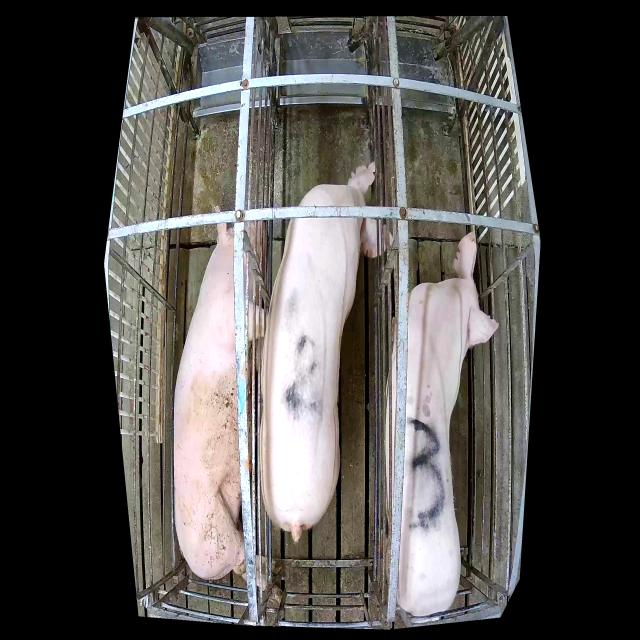pig: (260, 161, 393, 546), (381, 232, 499, 616), (174, 206, 282, 609)
